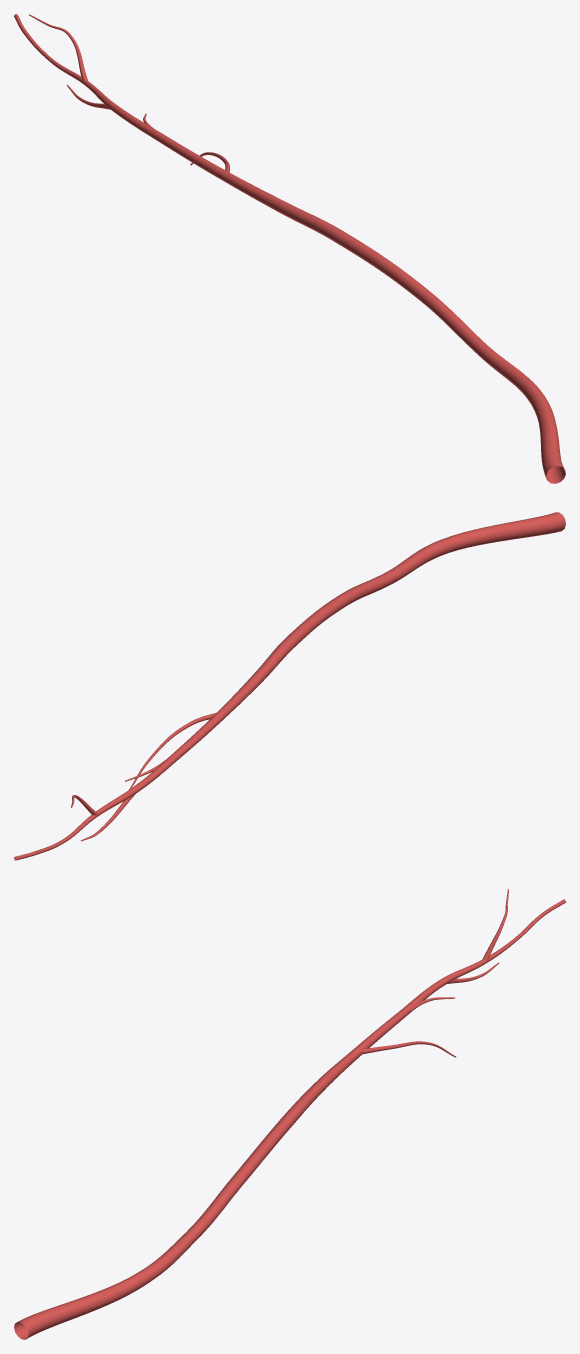
The picture shows the model from 3 angles, top to bottom: view 1: azimuth 30°, elevation 25°; view 2: azimuth 150°, elevation 25°; view 3: azimuth 330°, elevation 25°; orthographic projection. The views are drawn at different scales.
Parts seen in each view (by area): view 1: 左侧腓动脉; view 2: 左侧腓动脉; view 3: 左侧腓动脉.
Part boxes in pixels (left/top/right/bottom): 左侧腓动脉: left=14, top=14, right=565, bottom=483; 左侧腓动脉: left=14, top=512, right=565, bottom=860; 左侧腓动脉: left=14, top=889, right=565, bottom=1339.
Bounding box in the file's own units: 0.0343 × 0.0429 × 0.4722.
